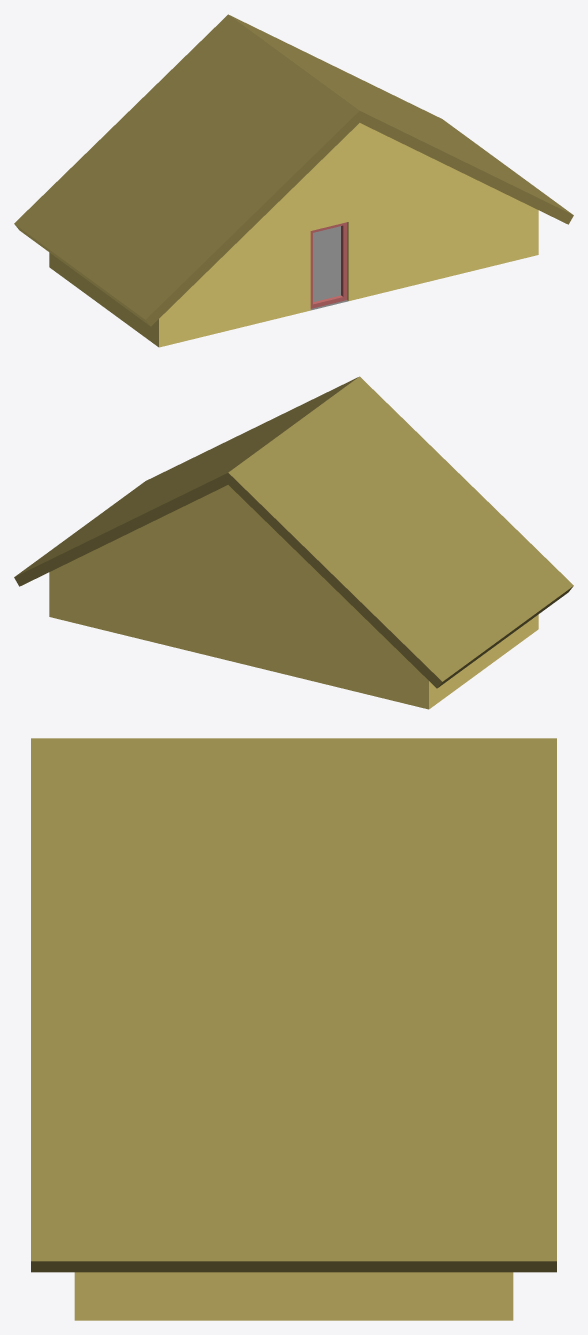
Rendered from result.glb.
The picture shows the model from 3 angles, top to bottom: view 1: azimuth 30°, elevation 25°; view 2: azimuth 150°, elevation 25°; view 3: azimuth 270°, elevation 25°; orthographic projection. The views are drawn at different scales.
Visible parts, largest first — view 1: dc6da3f8-c7de-4dfc-aefe-2ef671652f3f__undefined (×2), f9a0c683-db0a-47f0-8f41-d747eadaf011__undefined, 563cca79-ac3d-4669-a764-7f8098baaa41__Plane_5, 9b1d345e-5c1e-454c-ace5-decf63a27564__Box; view 2: dc6da3f8-c7de-4dfc-aefe-2ef671652f3f__undefined (×2), f9a0c683-db0a-47f0-8f41-d747eadaf011__undefined; view 3: dc6da3f8-c7de-4dfc-aefe-2ef671652f3f__undefined, f9a0c683-db0a-47f0-8f41-d747eadaf011__undefined.
Part boxes in pixels (<box>): dc6da3f8-c7de-4dfc-aefe-2ef671652f3f__undefined (×2): <box>14,14,573,326</box>; f9a0c683-db0a-47f0-8f41-d747eadaf011__undefined: <box>49,123,538,347</box>; 563cca79-ac3d-4669-a764-7f8098baaa41__Plane_5: <box>310,226,348,310</box>; 9b1d345e-5c1e-454c-ace5-decf63a27564__Box: <box>310,222,346,308</box>; dc6da3f8-c7de-4dfc-aefe-2ef671652f3f__undefined (×2): <box>14,376,573,688</box>; f9a0c683-db0a-47f0-8f41-d747eadaf011__undefined: <box>49,485,538,709</box>; dc6da3f8-c7de-4dfc-aefe-2ef671652f3f__undefined: <box>31,738,556,1272</box>; f9a0c683-db0a-47f0-8f41-d747eadaf011__undefined: <box>74,1272,513,1320</box>.
Size of the model in its own units: 1129 by 500 by 600.
